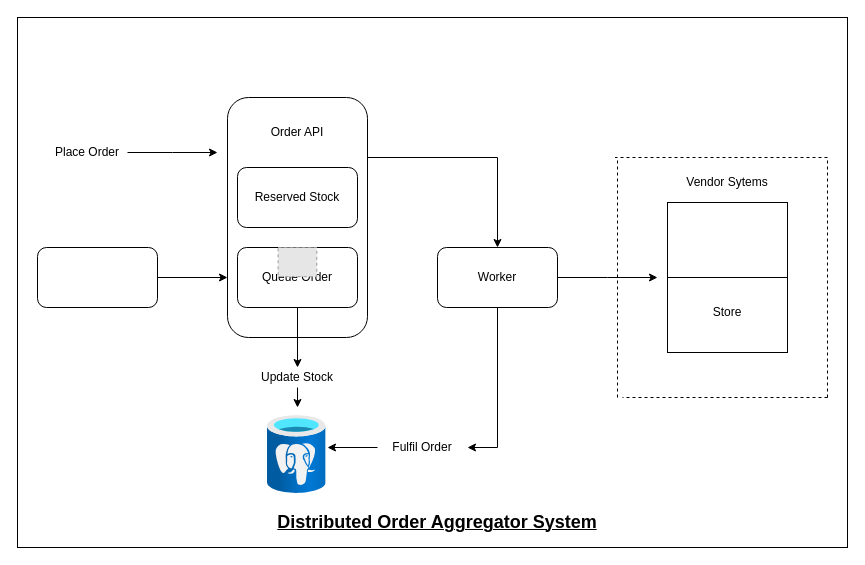
Some shapes in this 865 by 565 pixel diagram are drawn without their labels. Grey dashed boxes stand in for pictures. The centre of each missing label's shape, as x and y in pixels:
Client: (97,277)
Warehouse: (727,240)
